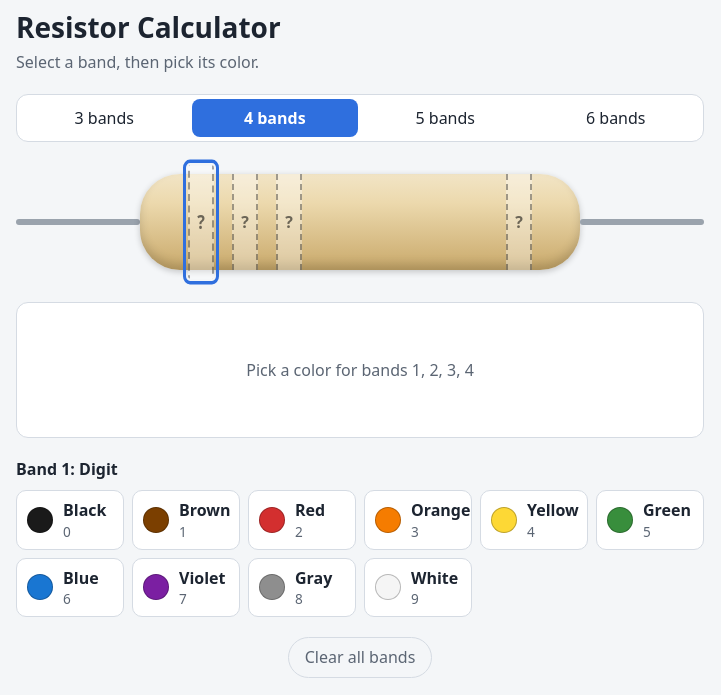
it: App › offers only the colors valid for the selected band
The width and height of the screenshot is (721, 695).
Check: the button "Gold" is not shown
Click the button named "Band 3, multiplier".
click(289, 222)  # box [276,174,302,270]
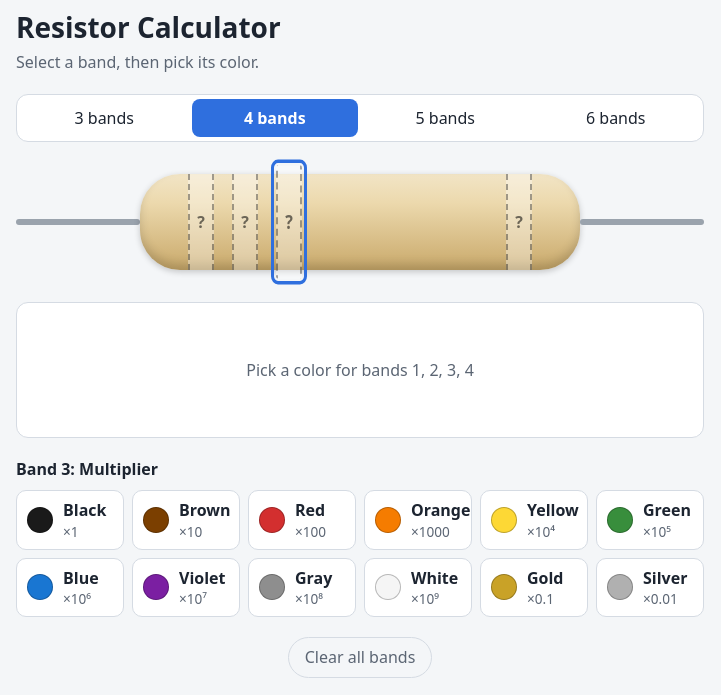
Check: the button "Gold ×0.1" is shown, box [480,558,588,617]
Check: the button "Silver ×0.01" is shown, box [596,558,704,617]
